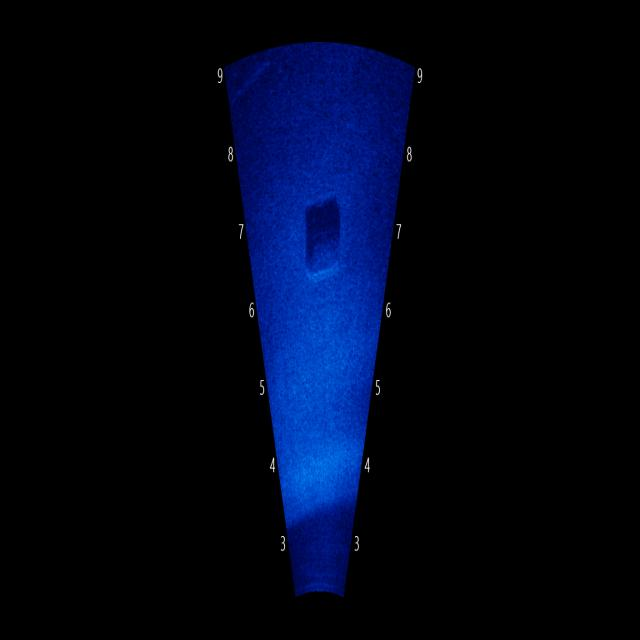square: (298, 181, 344, 289)
